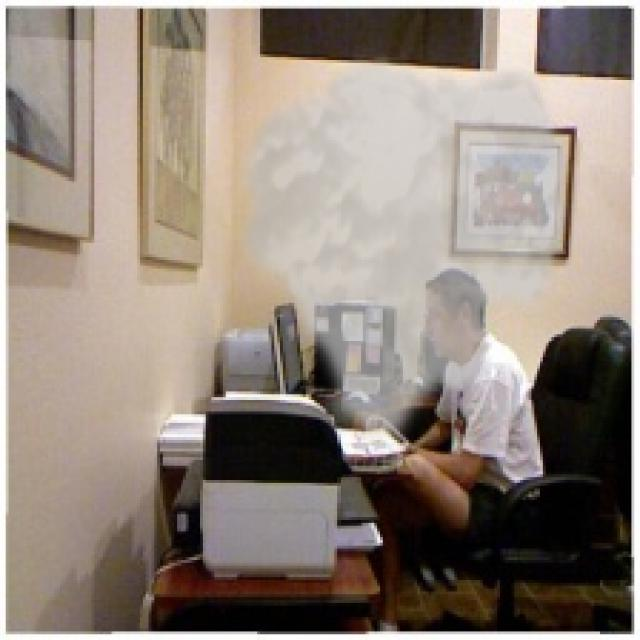smoke: (229, 51, 574, 448)
